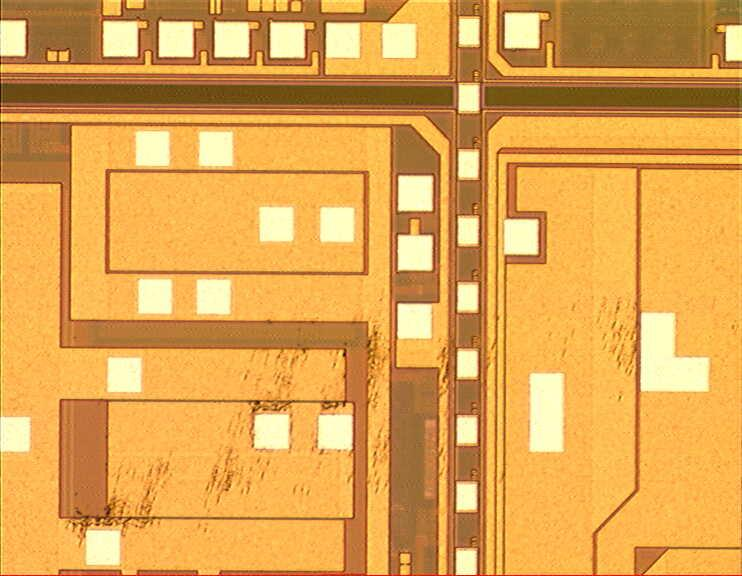SCRATCH: (61, 279, 657, 551)
